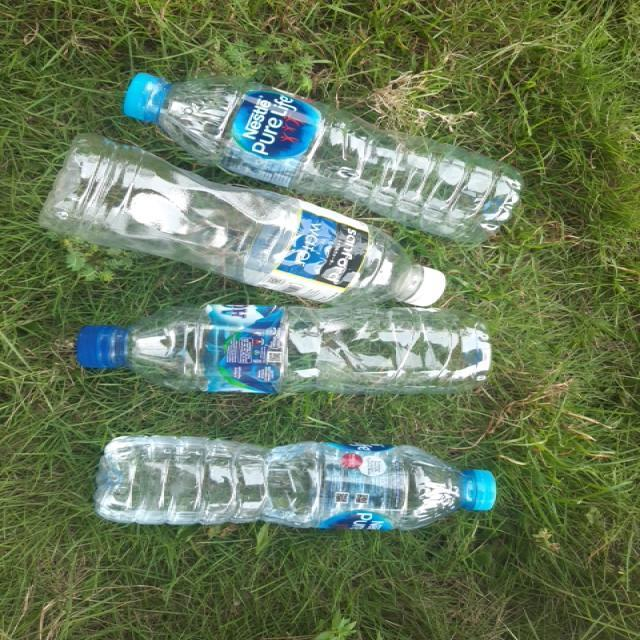PET Bottle: (38, 126, 468, 308), (108, 67, 524, 253), (64, 299, 501, 402), (89, 428, 501, 534)
